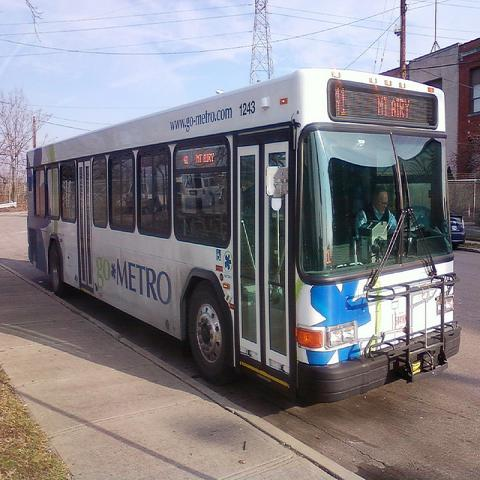bus: (23, 66, 464, 408)
car: (393, 204, 466, 250)
